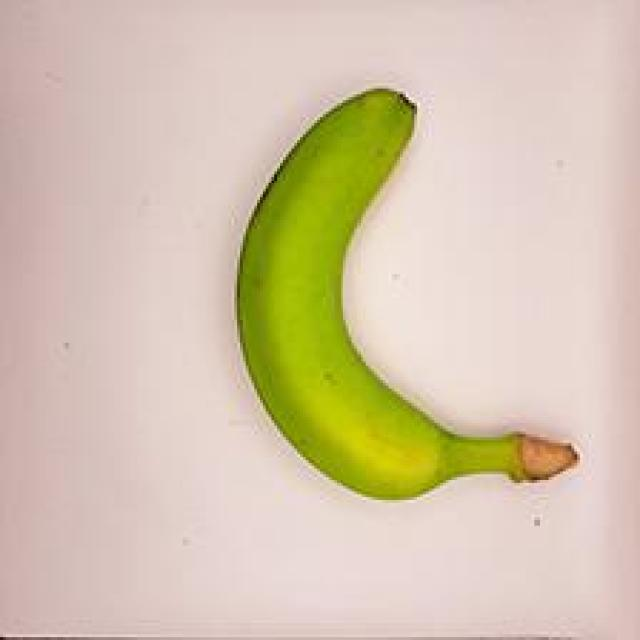Unripe: (220, 69, 588, 508)
